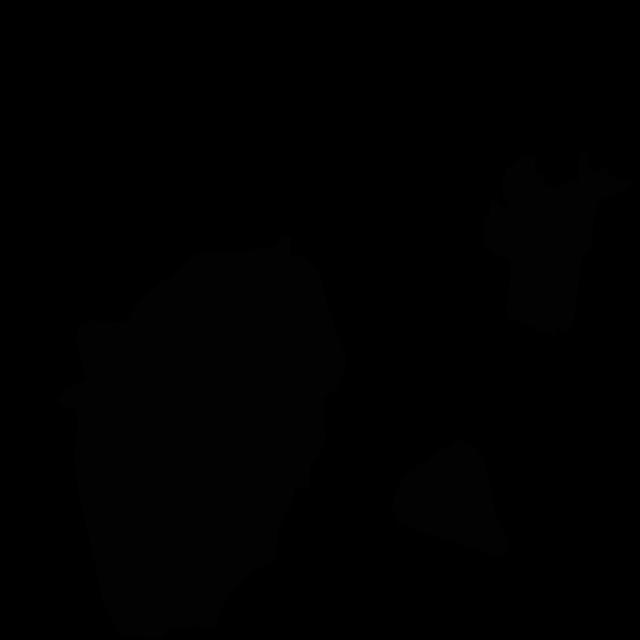cardboard: (56, 233, 348, 640), (484, 153, 630, 337), (391, 438, 510, 557)
